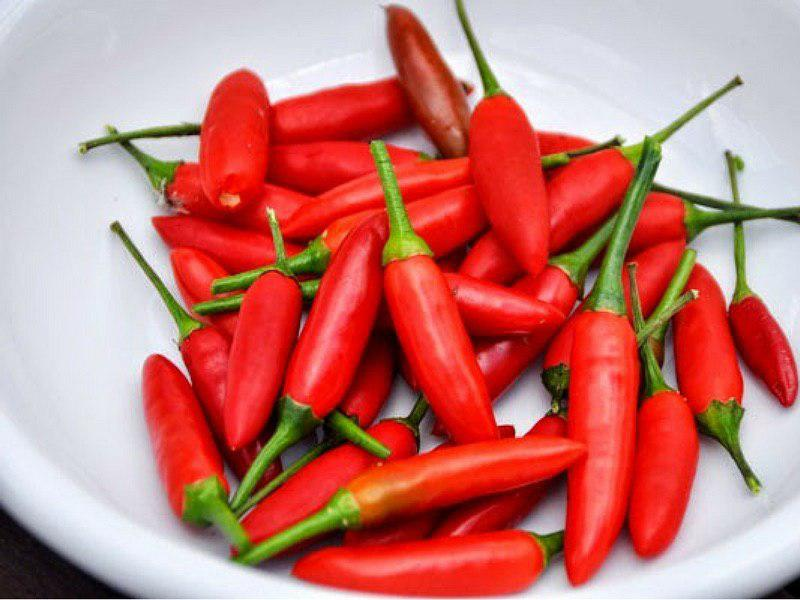lada merah: (334, 428, 592, 540), (283, 214, 409, 435), (556, 290, 645, 588), (378, 248, 504, 458), (275, 525, 585, 600), (209, 247, 322, 450), (135, 349, 231, 535), (459, 84, 551, 269), (378, 4, 483, 151), (260, 67, 433, 151), (624, 386, 703, 569), (196, 51, 278, 226), (674, 267, 750, 428), (726, 282, 800, 404)
